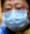with_mask: (2, 1, 30, 34)
